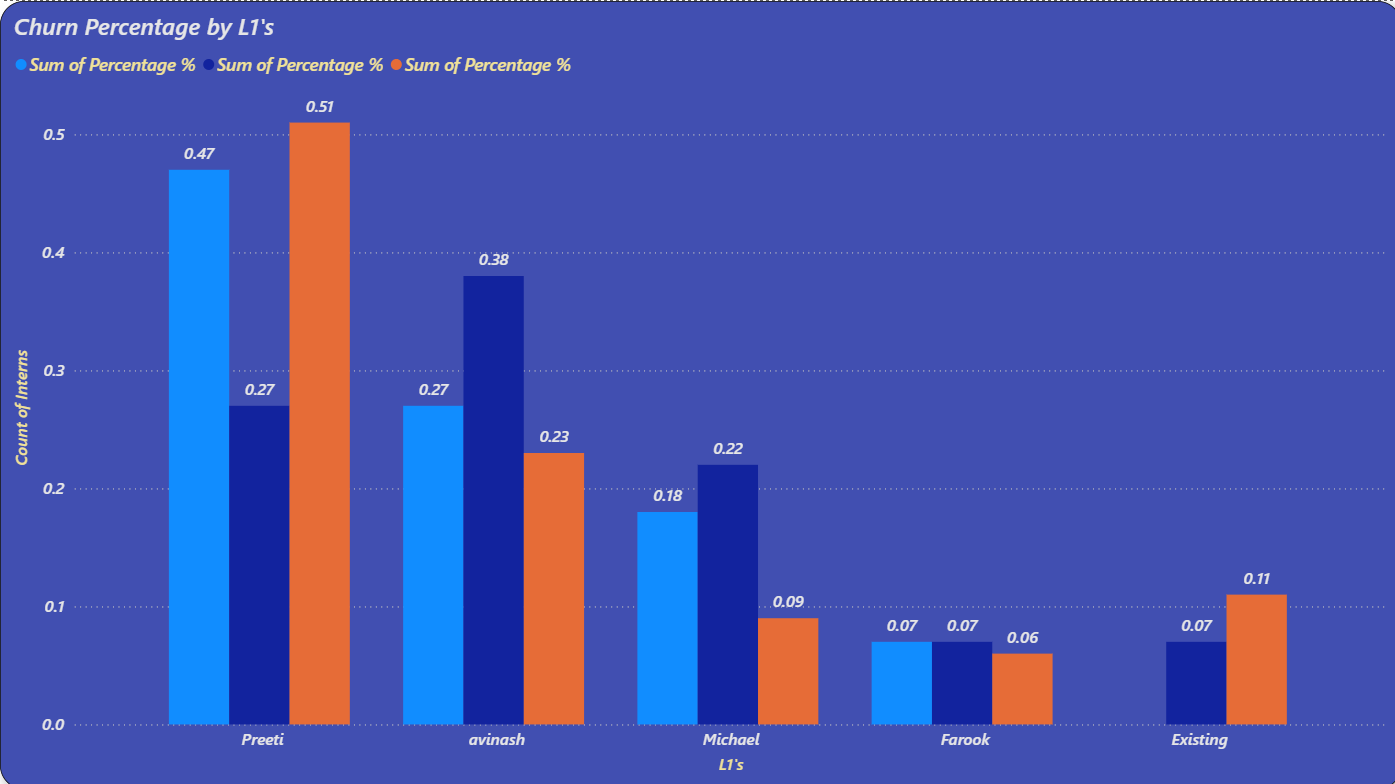

The page's visual inventory and layout, read from the dashboard file:
{"tool":"powerbi","page":{"name":"Page 3","canvas":[1280,720],"ordinal":2},"visuals":[{"type":"clusteredColumnChart","title":"Churn Percentage by L1''s","fields":{"Category":["churn by l1 w2.L1 Name"],"Y":["Sum(churn by l1.Percentage %)","Sum(churn by l1 w2.Percentage %)","Sum(churn by l1 w3.Percentage %)"]},"box":[0,0,1280,720],"z":0}]}

Visuals, with their boxes in screenshot pixels (x1, y1, x2, y2), scaled from the page's 1280x720 canvas onto the 1395x784 screenshot:
"Churn Percentage by L1''s" clusteredColumnChart: (left=0, top=0, right=1394, bottom=783)
